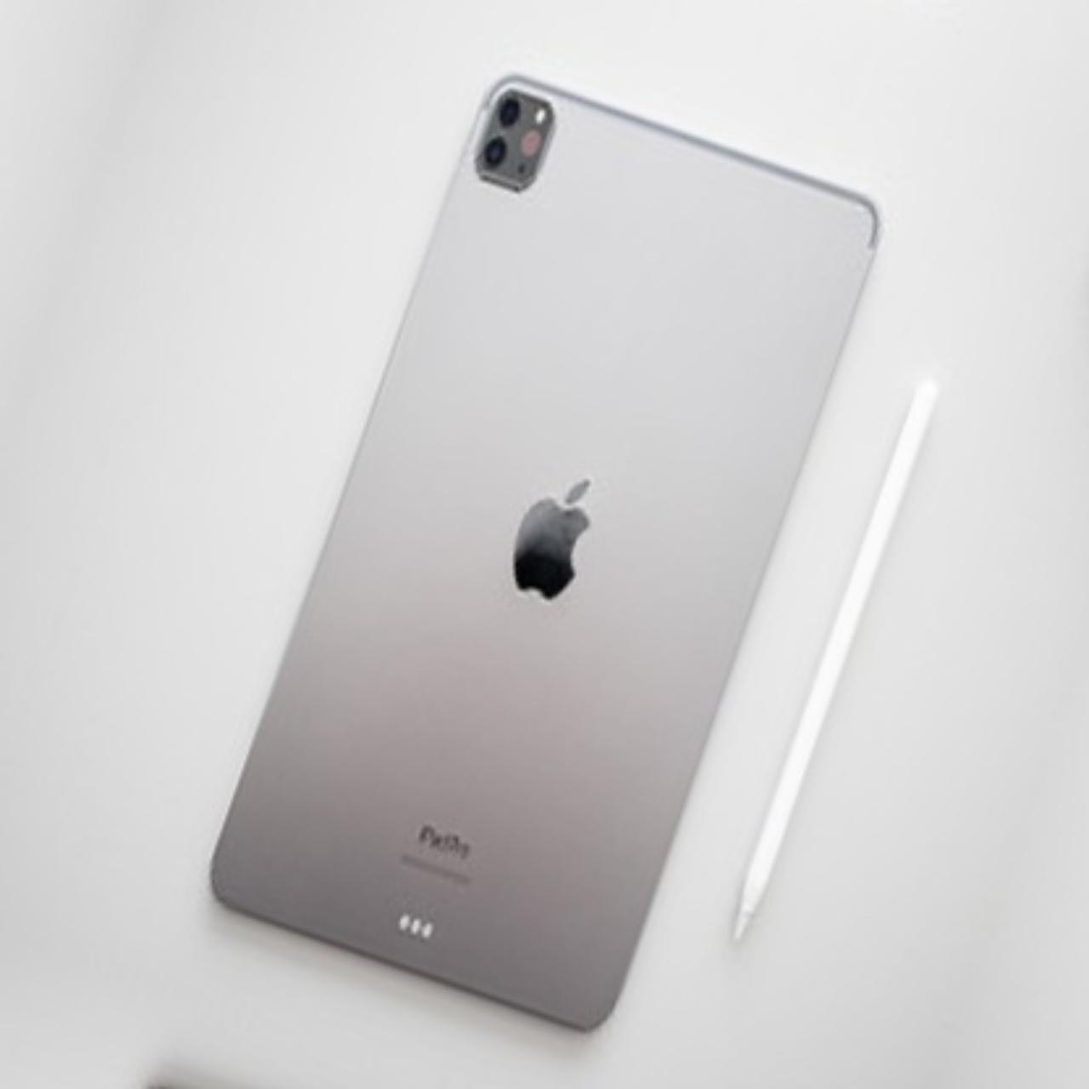Tablet_PC: (176, 46, 916, 1074)
